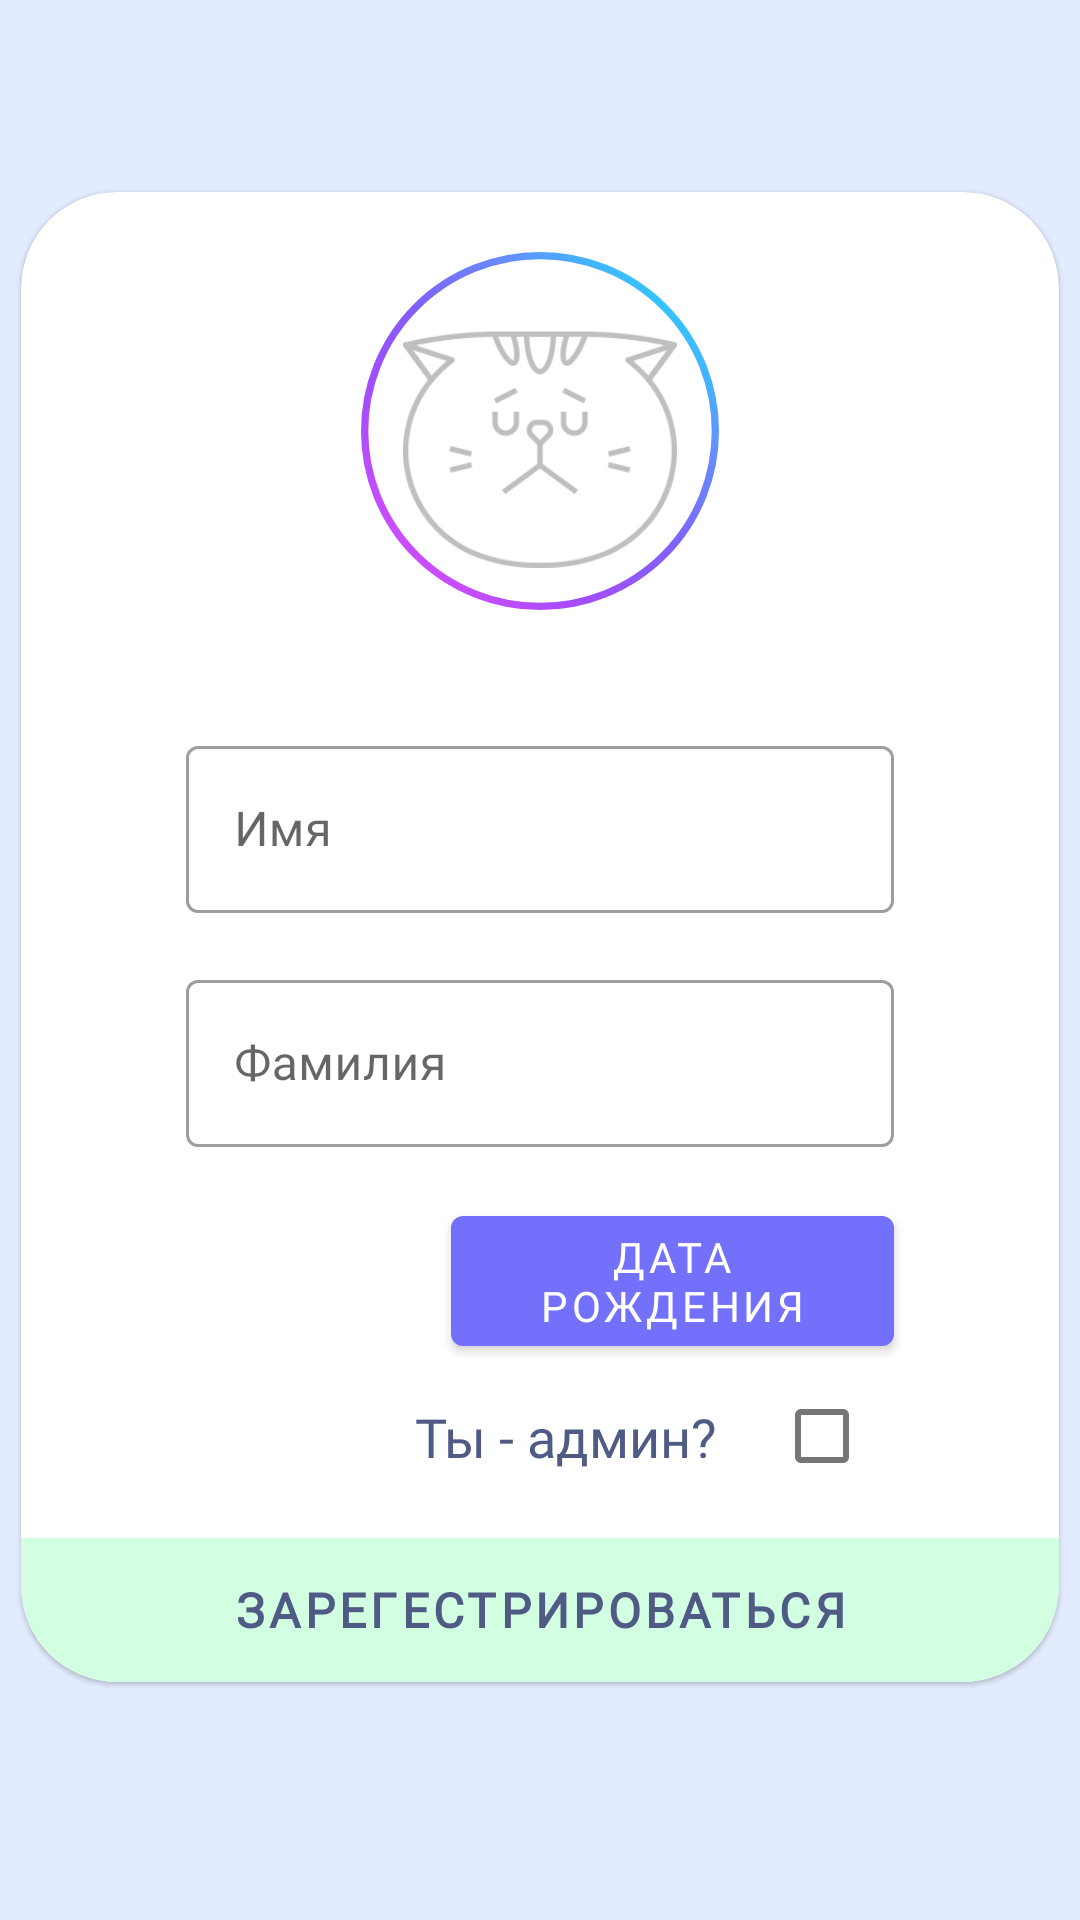

Screen size 1080x1920. Icon name, then its box in pixels as (x1=x1, y1=y1, x2=x2, y2=y2):
sad: (x1=361, y1=252, x2=719, y2=610)
